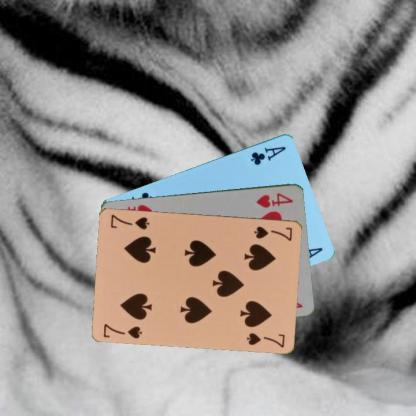4h: (254, 190, 294, 209)
7s: (101, 320, 144, 340), (251, 223, 294, 242)
Ac: (248, 144, 287, 166)
